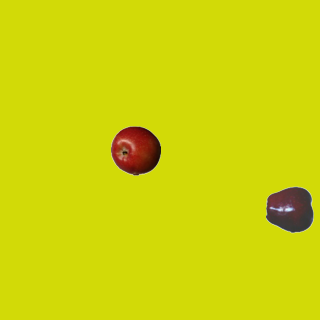Apple Braeburn: (110, 125, 160, 175)
Apple Red Delicious: (265, 184, 315, 234)
